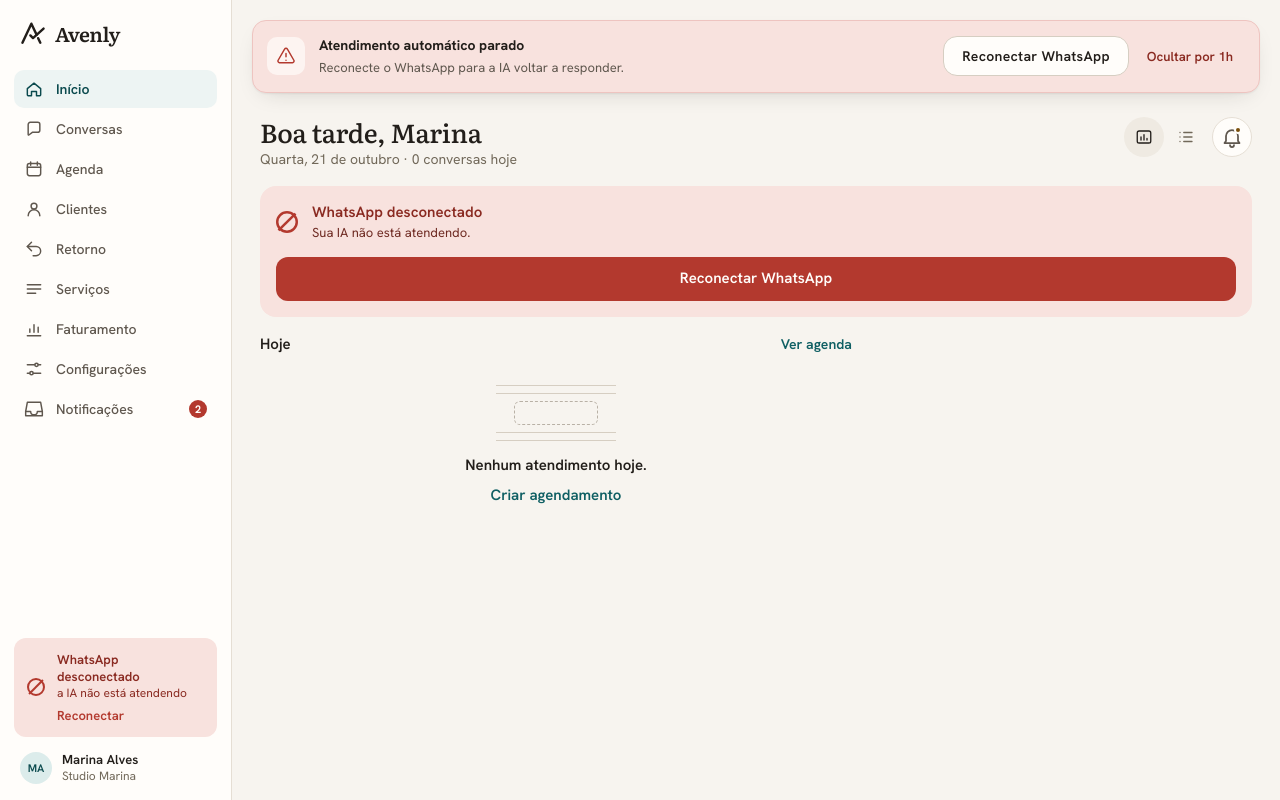
Test case: a gaveta: ver é ler › a condição ainda aberta continua avisada: só o 'não lida' muda
The image size is (1280, 800).
Click the button named "Notificações, 2 não lidas". click: click(1232, 136)
box: 1212,116 -> 1252,156
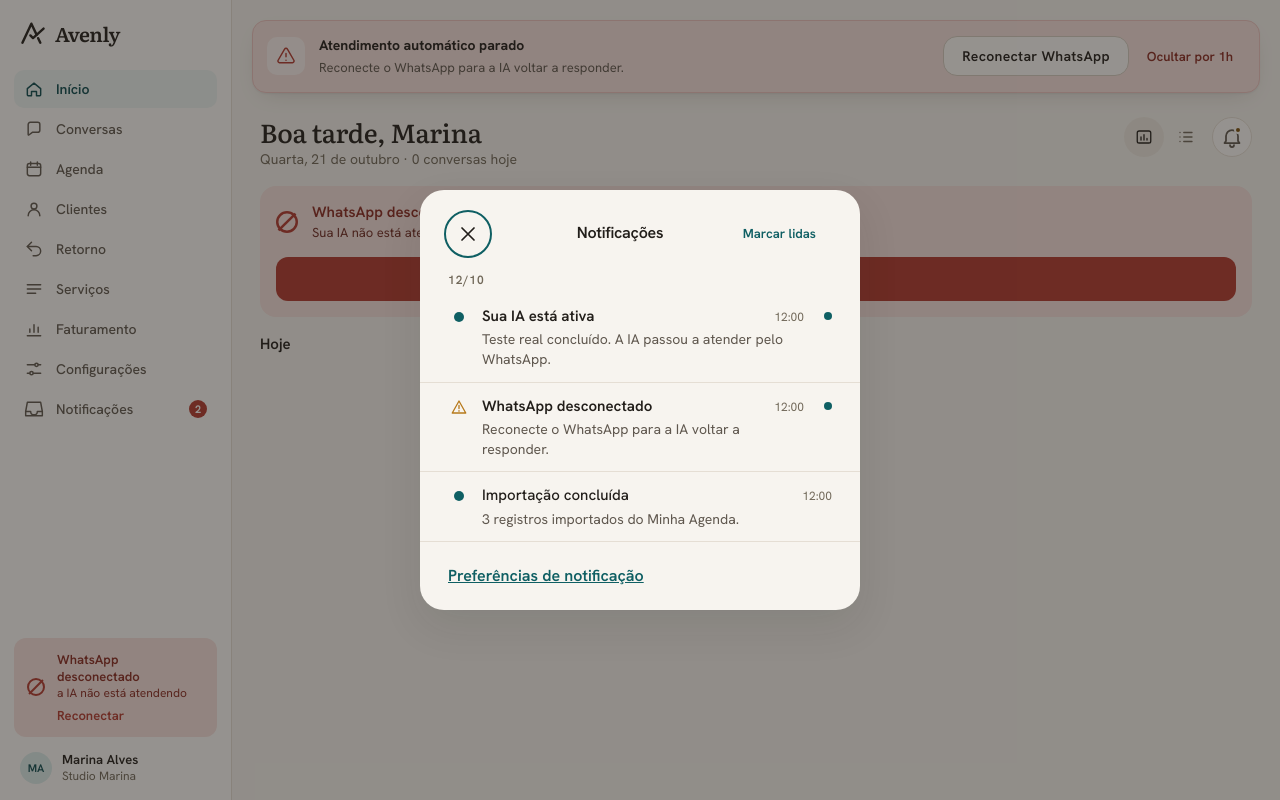
Click the button named "Fechar". click: click(468, 234)
box: 448,214 -> 488,254
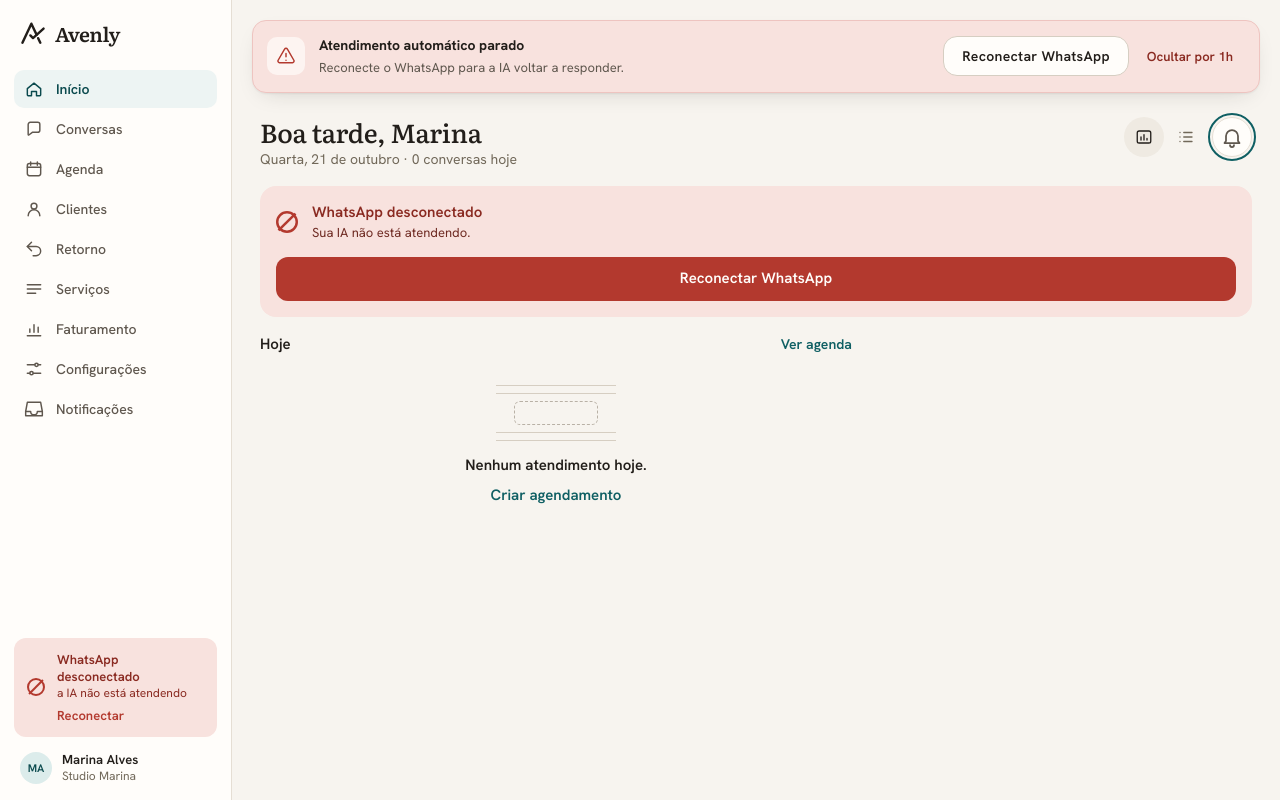
Expected: the text "WhatsApp desconectado" below "Notificações" is shown, 57,651 -> 140,685
Expected: the text with class "badge-count" is gone
